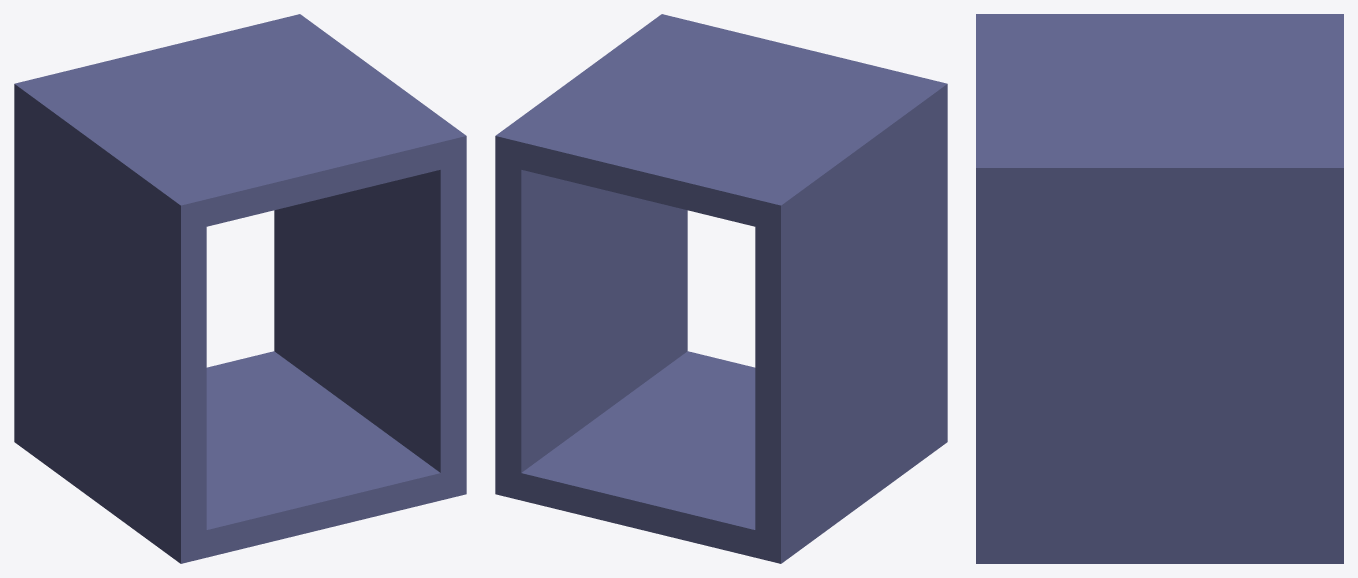
Rendered from Charger.glb.
The picture shows the model from 3 angles, left to right: view 1: azimuth 30°, elevation 25°; view 2: azimuth 150°, elevation 25°; view 3: azimuth 270°, elevation 25°; orthographic projection. The views are drawn at different scales.
Visible parts, largest first — view 1: Mesh_Mesh_head_geo.001_lambert2SG.001; view 2: Mesh_Mesh_head_geo.001_lambert2SG.001; view 3: Mesh_Mesh_head_geo.001_lambert2SG.001.
Boxes of the visible parts, x1,y1,x2,y2 form: Mesh_Mesh_head_geo.001_lambert2SG.001: (14, 14, 466, 563); Mesh_Mesh_head_geo.001_lambert2SG.001: (495, 14, 947, 563); Mesh_Mesh_head_geo.001_lambert2SG.001: (976, 14, 1343, 563).
Size of the model in its own units: 0.0109 by 0.013 by 0.011.
